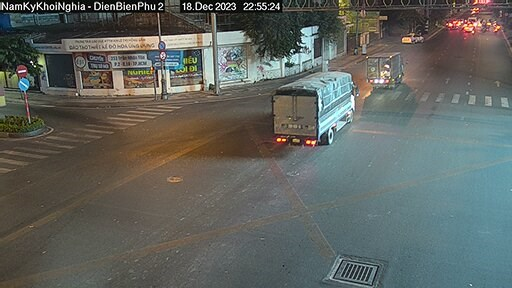car: (399, 31, 433, 48)
truck: (273, 71, 355, 149), (364, 43, 409, 92)
